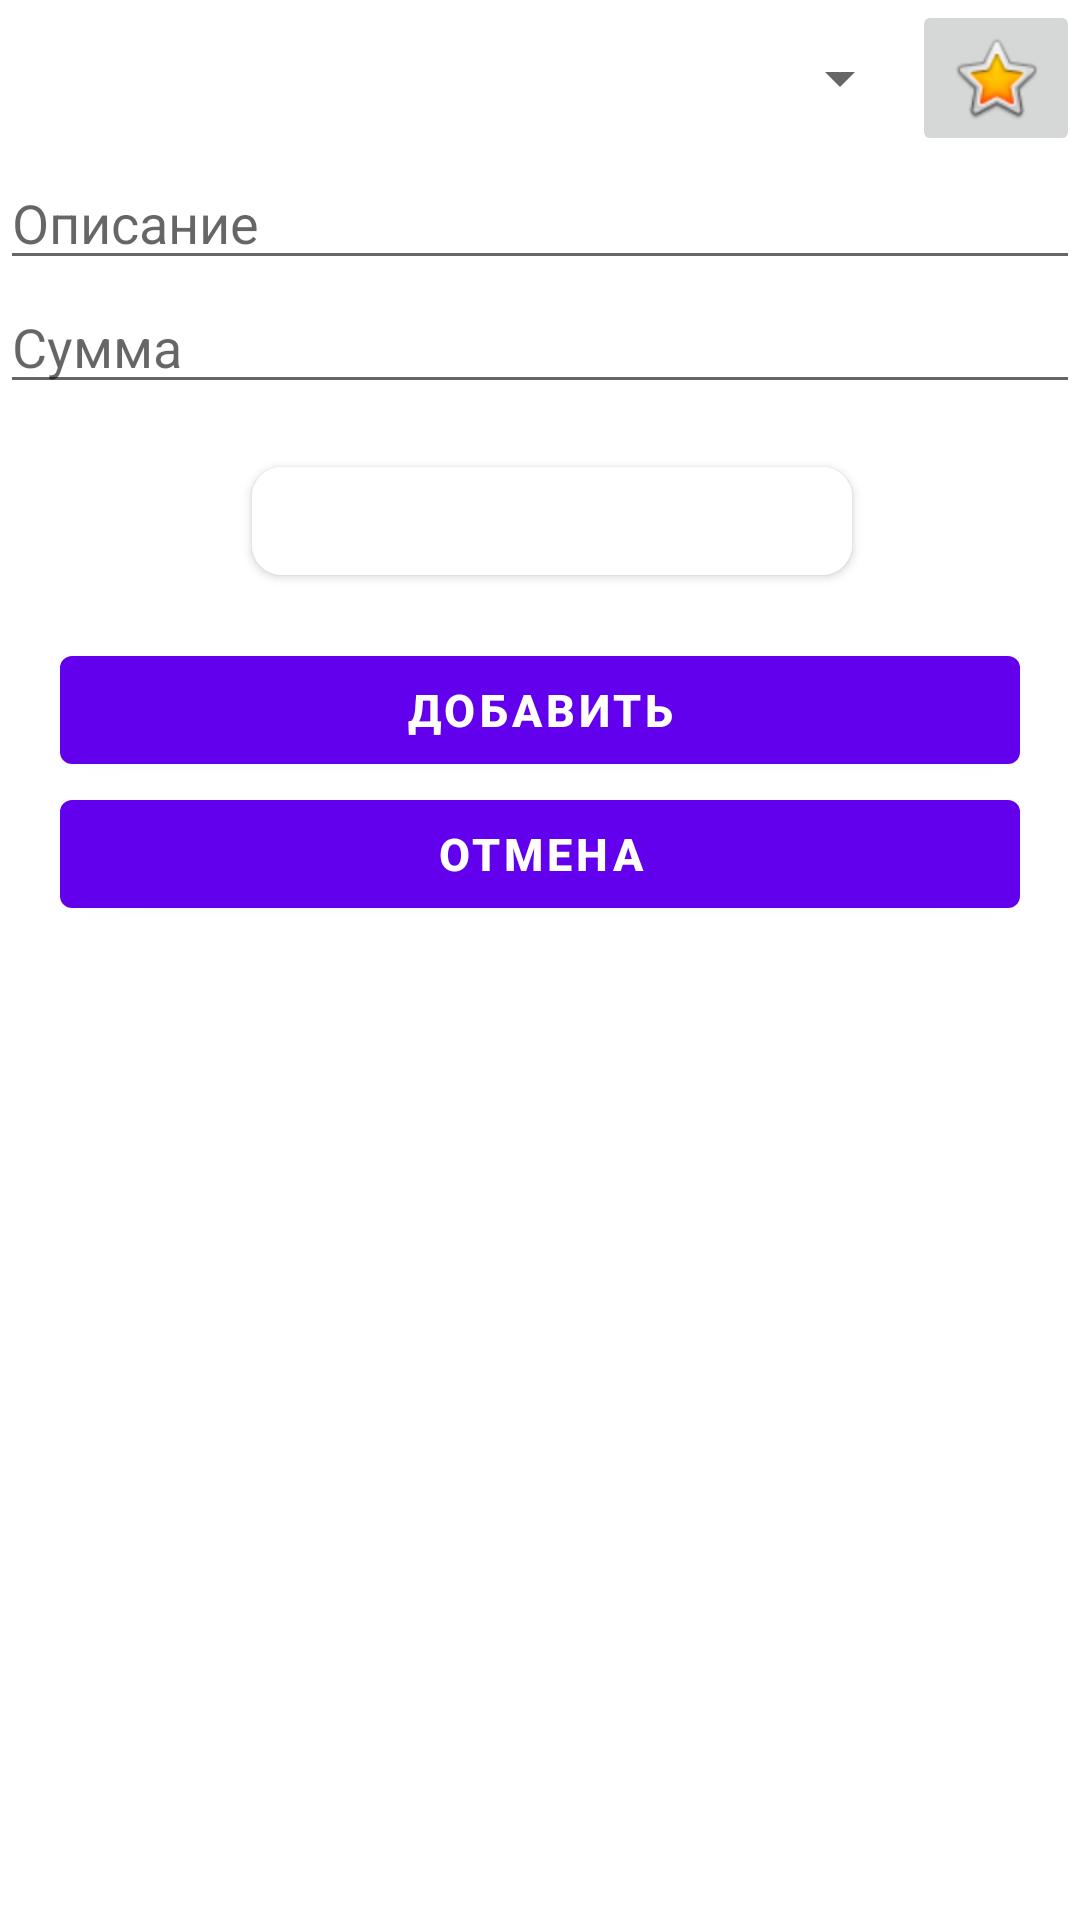

Named icons in this screenshot (1080 × 1920) and their bounding boxes, Rect(x1, y1, x2, y2):
star on: Rect(924, 18, 1068, 138)
